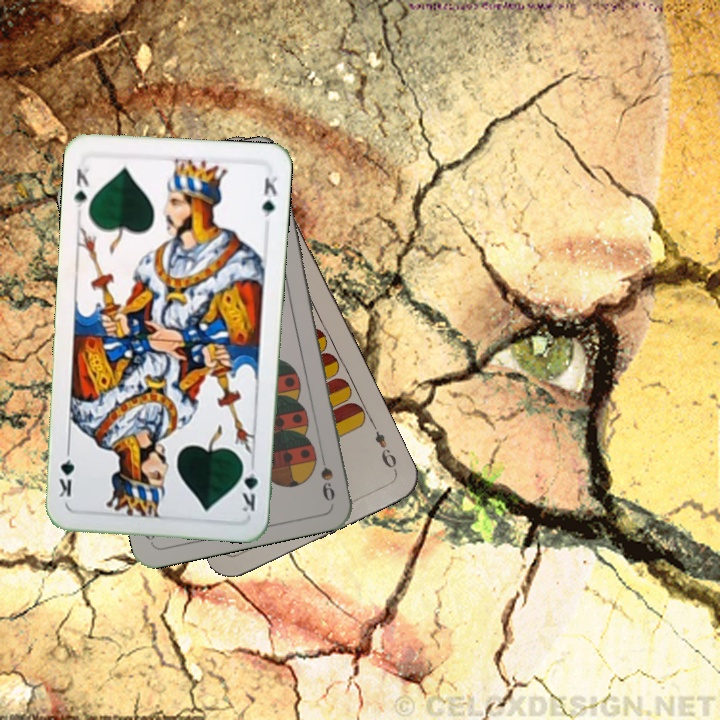E9: (367, 418, 399, 474)
GK: (238, 457, 261, 514), (70, 163, 92, 210)
S9: (315, 445, 338, 504)
